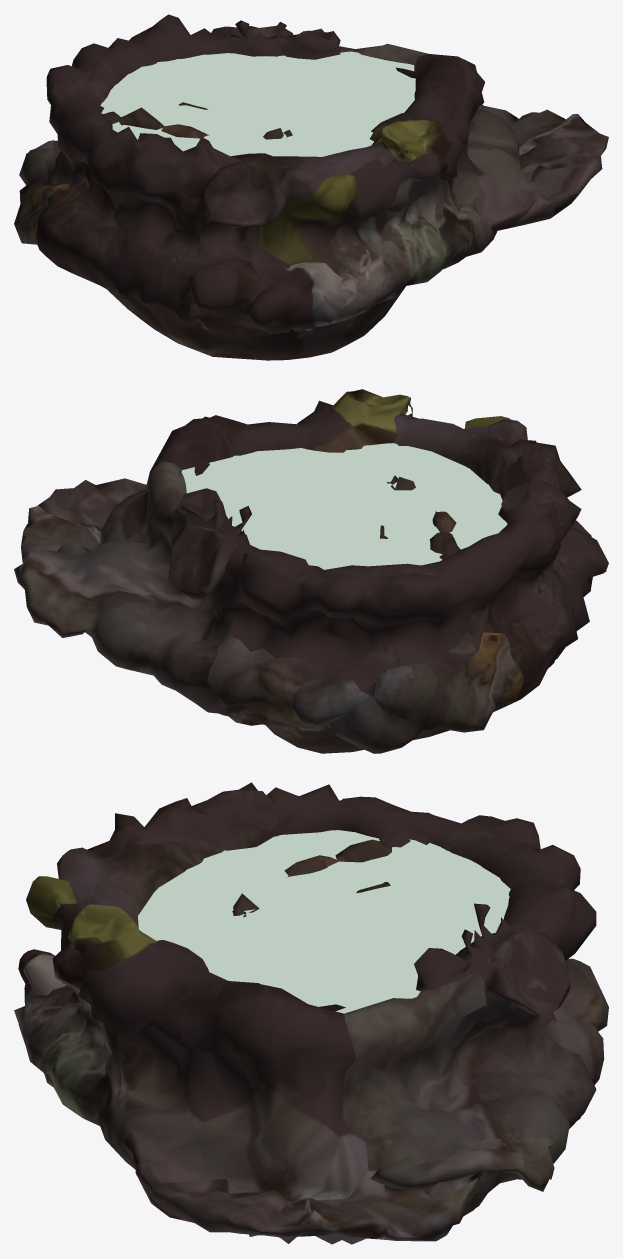
Rendered from hotspringch01.fbx.
The picture shows the model from 3 angles, top to bottom: view 1: azimuth 30°, elevation 25°; view 2: azimuth 150°, elevation 25°; view 3: azimuth 270°, elevation 25°; orthographic projection. The views are drawn at different scales.
Visible parts, largest first — view 1: Group60700 (2), Mesh; view 2: Group60700 (2), Mesh; view 3: Group60700 (2), Mesh.
Boxes of the visible parts, x1,y1,x2,y2 form: Group60700 (2): (14,14,608,360); Mesh: (100,51,415,156); Group60700 (2): (14,389,608,753); Mesh: (181,443,507,569); Group60700 (2): (14,782,608,1244); Mesh: (138,830,510,1013).
Bounding box in the file's own units: 624 × 297 × 481.
